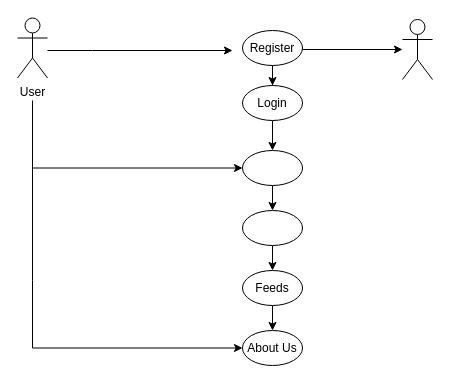
This 452x383 diagram has some shape labels left out. The shapes that lost their labels are listed below. From the top down, each one's centre as x and y in pixels, then its label:
At pixel 417 49: "Admin".
At pixel 272 168: "Home".
At pixel 272 228: "Blogs".
